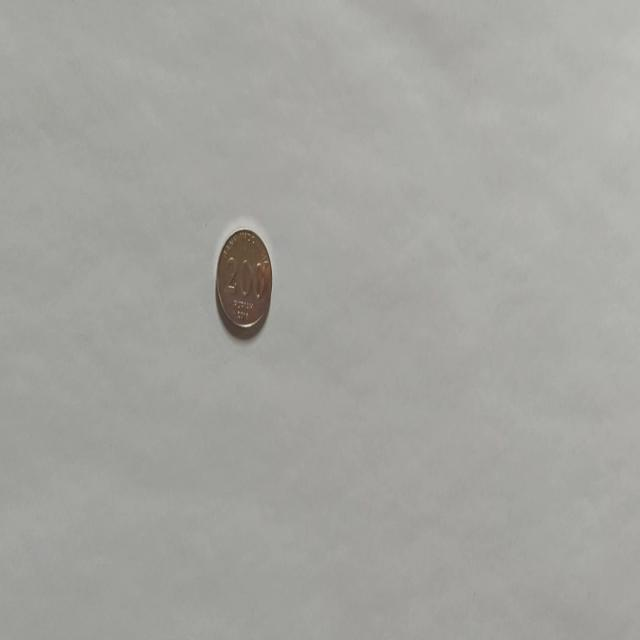dua ratus rupiah: (214, 226, 272, 338)
